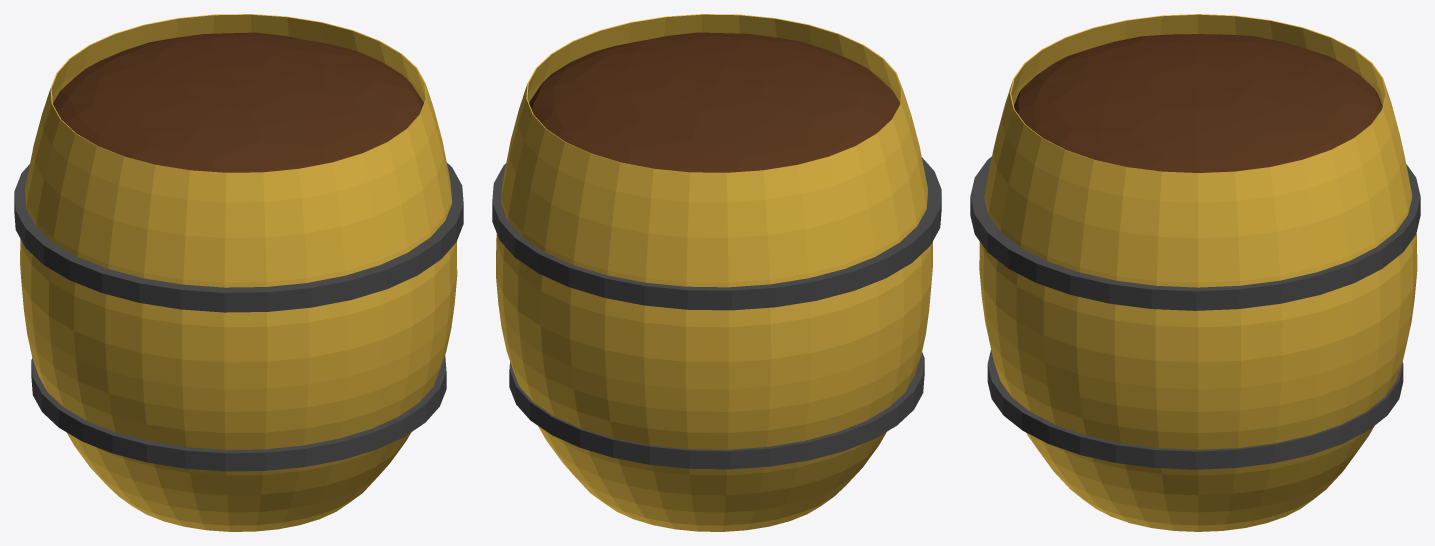
File: Barel.fbx
The picture shows the model from 3 angles, left to right: view 1: azimuth 30°, elevation 25°; view 2: azimuth 150°, elevation 25°; view 3: azimuth 270°, elevation 25°; orthographic projection.
Parts seen in each view (by area): view 1: Circle; view 2: Circle; view 3: Circle.
Part boxes in pixels (x1,y1,x2,y2): Circle: (14,14,463,531); Circle: (492,14,941,531); Circle: (970,14,1420,531).
Size of the model in its own units: 1515 by 1470 by 1515.
